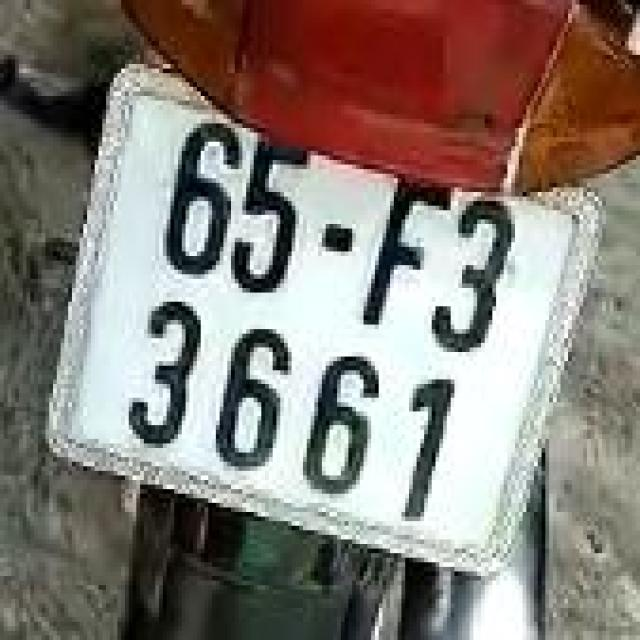1: (371, 349, 477, 539)
3: (415, 172, 541, 379), (109, 282, 223, 464)
5: (215, 123, 323, 311)
6: (282, 327, 402, 517), (194, 305, 315, 485), (147, 102, 252, 293)
F: (346, 155, 467, 353)
